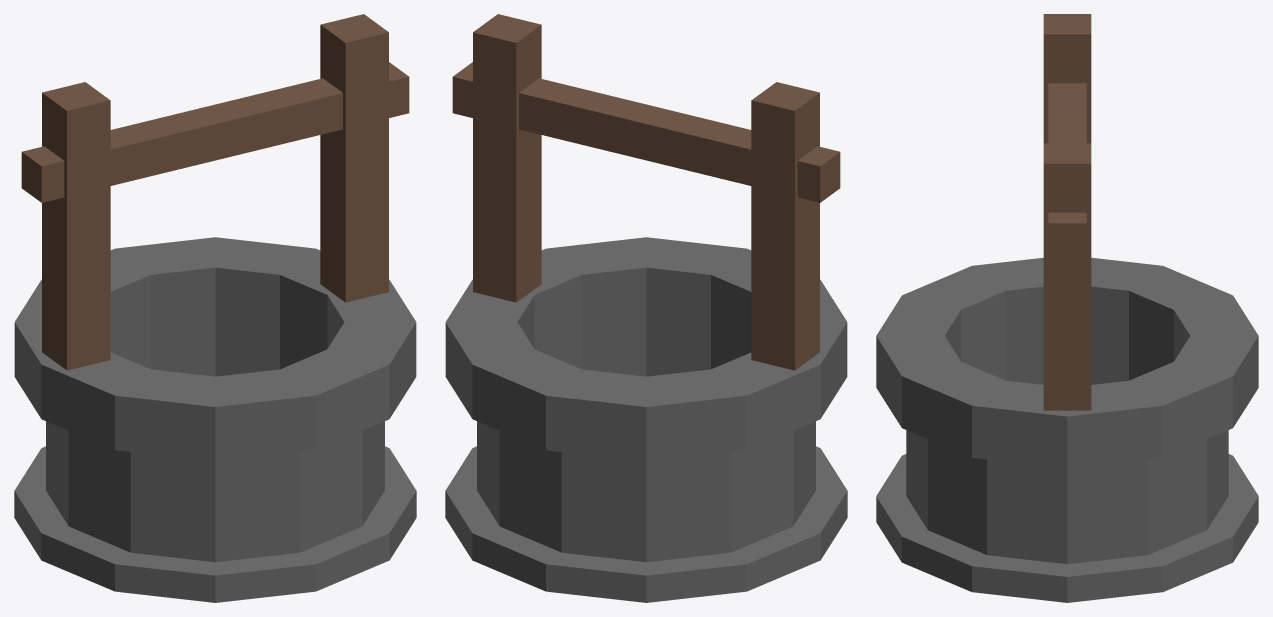
Rendered from SPW_Medieval_Props_01.glb.
The picture shows the model from 3 angles, left to right: view 1: azimuth 30°, elevation 25°; view 2: azimuth 150°, elevation 25°; view 3: azimuth 270°, elevation 25°; orthographic projection. The views are drawn at different scales.
Visible parts, largest first — view 1: SPW_Medieval_Props_01; view 2: SPW_Medieval_Props_01; view 3: SPW_Medieval_Props_01.
Boxes of the visible parts, <box> form: SPW_Medieval_Props_01: <box>14,14,416,602</box>; SPW_Medieval_Props_01: <box>445,14,847,602</box>; SPW_Medieval_Props_01: <box>876,14,1258,602</box>.
Size of the model in its own units: 0.9502 by 1.13 by 0.9.
1 material, 1 textured.
